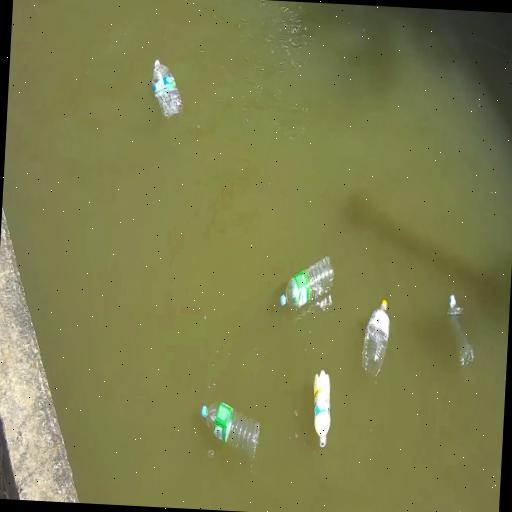plastic: (201, 402, 258, 458), (280, 257, 332, 309), (361, 300, 389, 378), (447, 295, 472, 365), (152, 60, 181, 119), (313, 370, 329, 448)
